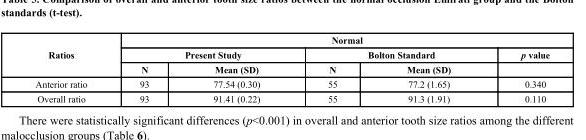table: (34, 34, 549, 103)
table column: (371, 34, 485, 103), (180, 34, 293, 103), (34, 34, 112, 103), (293, 34, 371, 103), (112, 34, 180, 103), (485, 34, 549, 103)
table column header: (34, 34, 549, 76)
table row: (34, 46, 549, 61), (34, 61, 549, 76), (34, 76, 549, 90), (34, 90, 549, 103), (34, 34, 549, 46)
table spanning cell: (112, 34, 549, 46), (34, 34, 112, 76), (293, 46, 485, 61), (112, 46, 293, 61), (485, 46, 549, 76)
